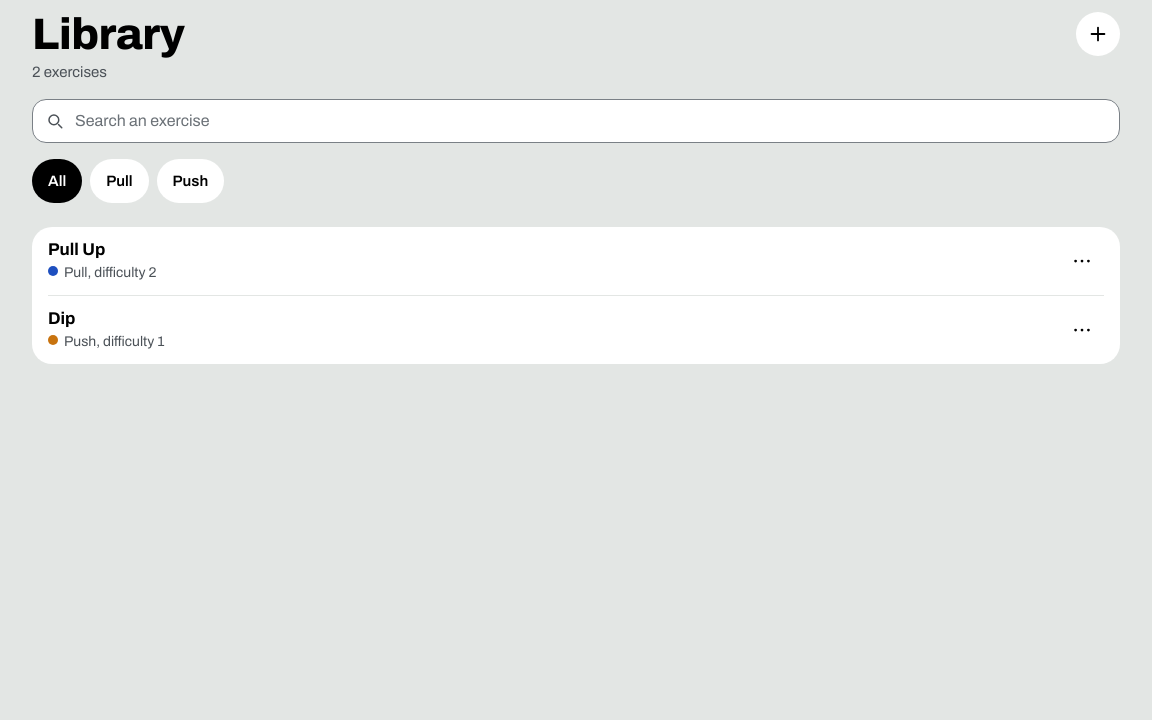
Test case: ExerciseLibrary › clicking Cancel hides the add form
The image size is (1152, 720).
What coordinates should you click on to do the following:
click the button named "Add an exercise"
I would click on:
 (1098, 34)
Its box is 1076,12 -> 1120,56.
(page scrolled)
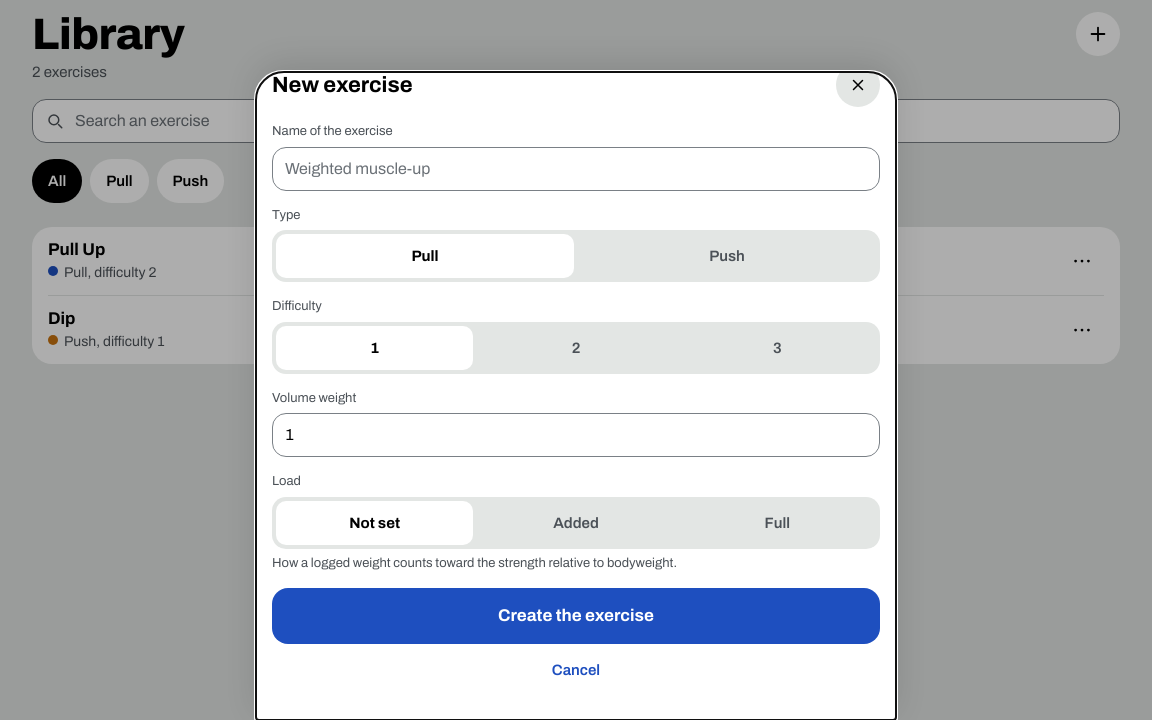
What coordinates should you click on to do the following:
click the button "Cancel"
I would click on:
 (576, 670)
Its box is 272,648 -> 880,692.
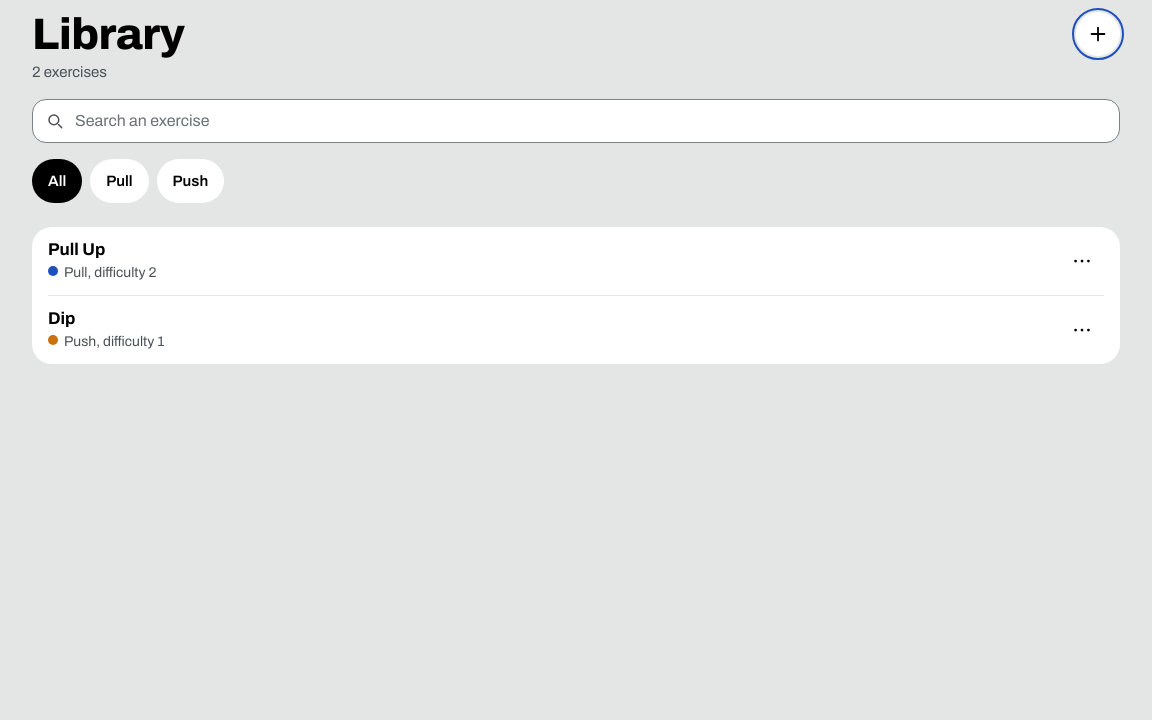
Check: the text labelled "Name of the exercise" is gone
